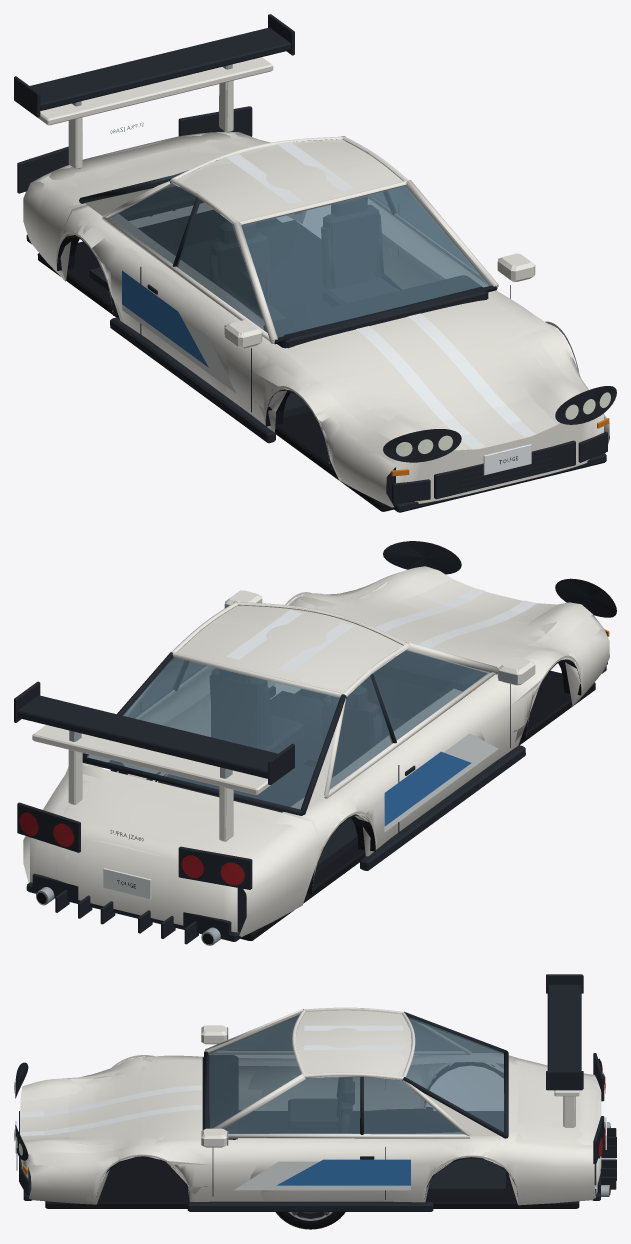
Rendered from supra.glb.
The picture shows the model from 3 angles, top to bottom: view 1: azimuth 30°, elevation 25°; view 2: azimuth 150°, elevation 25°; view 3: azimuth 270°, elevation 25°; orthographic projection. The views are drawn at different scales.
Parts seen in each view (by area): view 1: LOD0_body, LOD0_cabin, LOD0_glass, LOD1_glass, LOD1_body, LOD0_hood, LOD1_hood, LOD1_cabin, LOD1_spoiler_gt, LOD0_vinyl_apex, LOD0_spoiler_gt, LOD0_vinyl_twin (+3 smaller); view 2: LOD0_body, LOD0_cabin, LOD1_body, LOD0_glass, LOD1_glass, LOD0_hood, LOD1_spoiler_gt, LOD1_hood, LOD0_vinyl_apex, LOD0_spoiler_gt, LOD0_spoiler_stock, LOD1_spoiler_stock (+3 smaller); view 3: LOD0_body, LOD0_cabin, LOD0_glass, LOD1_glass, LOD1_body, LOD0_hood, LOD0_vinyl_apex, LOD1_hood, LOD1_cabin, LOD1_spoiler_gt, LOD0_vinyl_twin, LOD0_spoiler_gt (+4 smaller).
Part boxes in pixels (x1,y1,x2,y2): LOD0_body: [17, 106, 616, 512]; LOD0_cabin: [79, 136, 498, 417]; LOD0_glass: [110, 171, 489, 337]; LOD1_glass: [110, 170, 488, 337]; LOD1_body: [17, 120, 616, 512]; LOD0_hood: [280, 297, 580, 451]; LOD1_hood: [335, 313, 557, 450]; LOD1_cabin: [80, 136, 497, 416]; LOD1_spoiler_gt: [14, 27, 294, 117]; LOD0_vinyl_apex: [122, 238, 443, 393]; LOD0_spoiler_gt: [14, 14, 294, 117]; LOD0_vinyl_twin: [226, 141, 521, 435]; LOD0_body: [17, 541, 616, 945]; LOD0_cabin: [82, 600, 497, 873]; LOD1_body: [17, 541, 613, 945]; LOD0_glass: [87, 649, 487, 809]; LOD1_glass: [87, 642, 487, 808]; LOD0_hood: [306, 566, 592, 667]; LOD1_spoiler_gt: [16, 681, 284, 778]; LOD1_hood: [335, 579, 557, 649]; LOD0_vinyl_apex: [188, 673, 498, 832]; LOD0_spoiler_gt: [14, 682, 294, 784]; LOD0_spoiler_stock: [32, 725, 270, 841]; LOD1_spoiler_stock: [32, 725, 267, 841]; LOD0_body: [14, 1025, 616, 1211]; LOD0_cabin: [202, 1007, 508, 1193]; LOD0_glass: [208, 1014, 504, 1134]; LOD1_glass: [208, 1015, 504, 1134]; LOD1_body: [14, 1025, 610, 1211]; LOD0_hood: [20, 1060, 202, 1154]; LOD0_vinyl_apex: [234, 1159, 410, 1190]; LOD1_hood: [20, 1069, 190, 1144]; LOD1_cabin: [207, 1008, 508, 1193]; LOD1_spoiler_gt: [546, 984, 581, 1090]; LOD0_vinyl_twin: [26, 1025, 403, 1135]; LOD0_spoiler_gt: [546, 974, 583, 1090].
Bounding box in the file's own units: 2.07 × 1.74 × 4.69.
